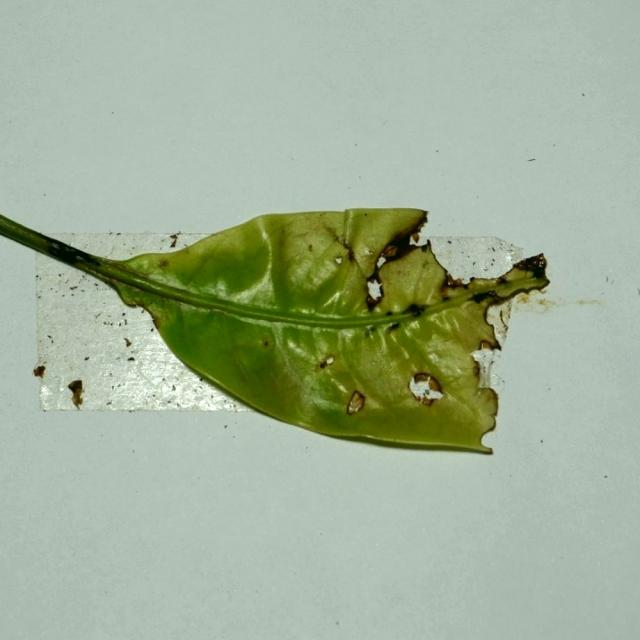Anthracnose: (342, 387, 371, 419)
